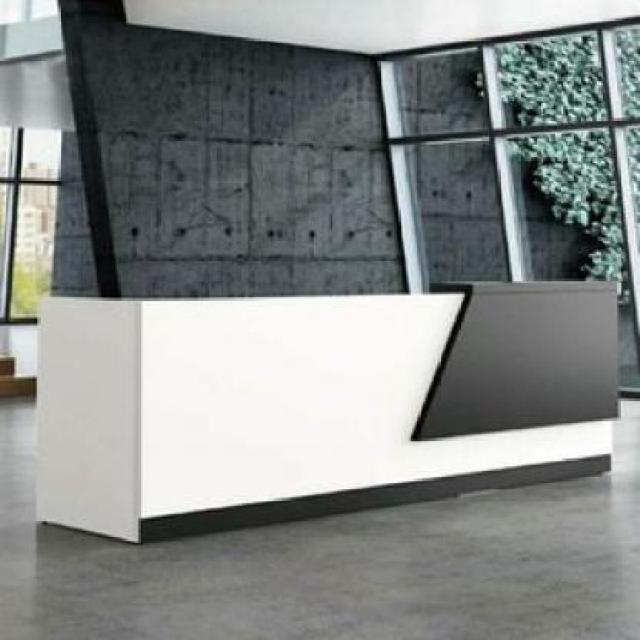frontdesk: (20, 266, 621, 553)
